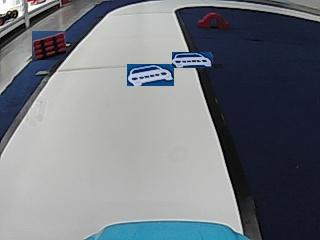bridge: (197, 12, 228, 29)
